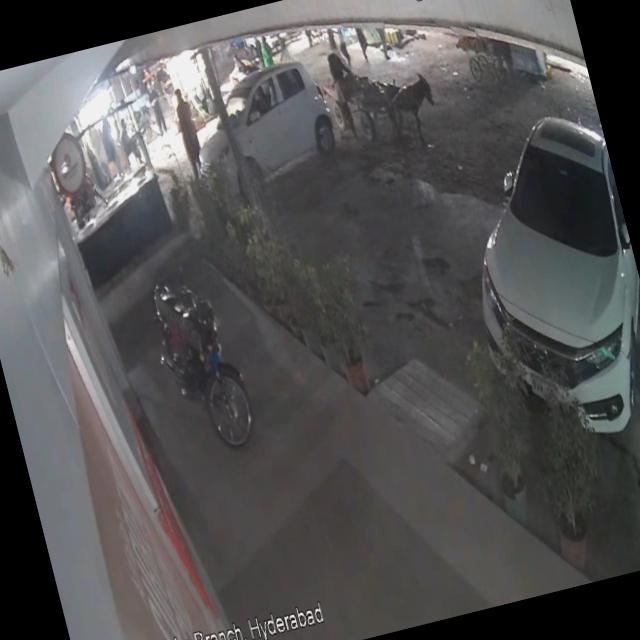Car: (432, 86, 640, 475), (180, 51, 364, 210)
